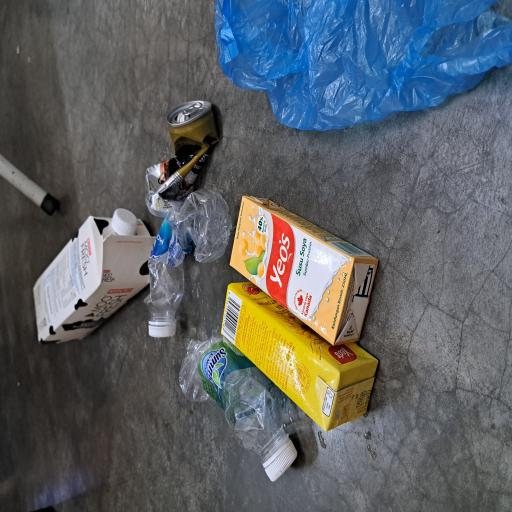can: (222, 191, 310, 291)
drink carton: (62, 293, 171, 506), (126, 307, 237, 505), (128, 43, 228, 201)
plastic bag: (286, 285, 384, 512)
plastic bottle: (24, 239, 134, 395), (131, 195, 242, 303)
plastic bottle cap: (24, 346, 56, 394), (207, 144, 228, 183), (132, 194, 146, 236)
pop tab: (293, 231, 311, 273)
